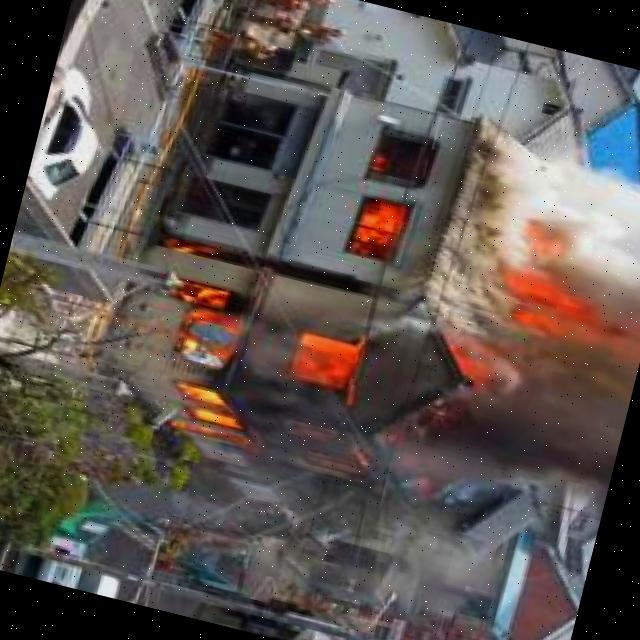fire: (109, 224, 431, 492), (494, 269, 640, 368), (345, 146, 415, 256), (513, 212, 579, 268)
